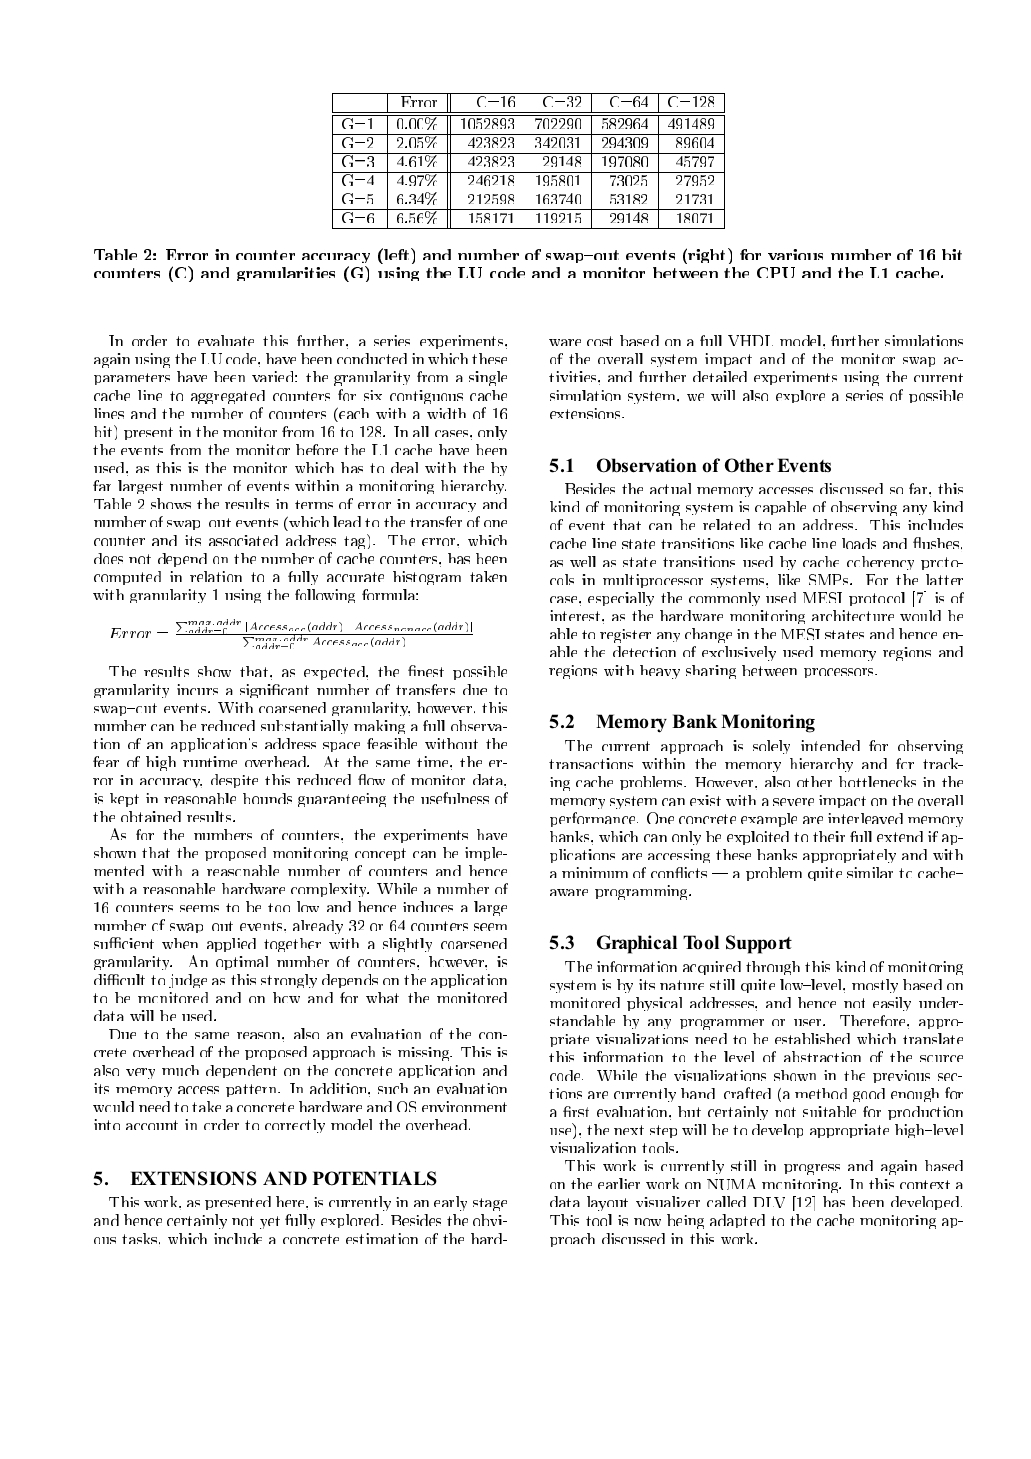Table: (333, 91, 724, 229)
formula: (110, 618, 472, 649)
